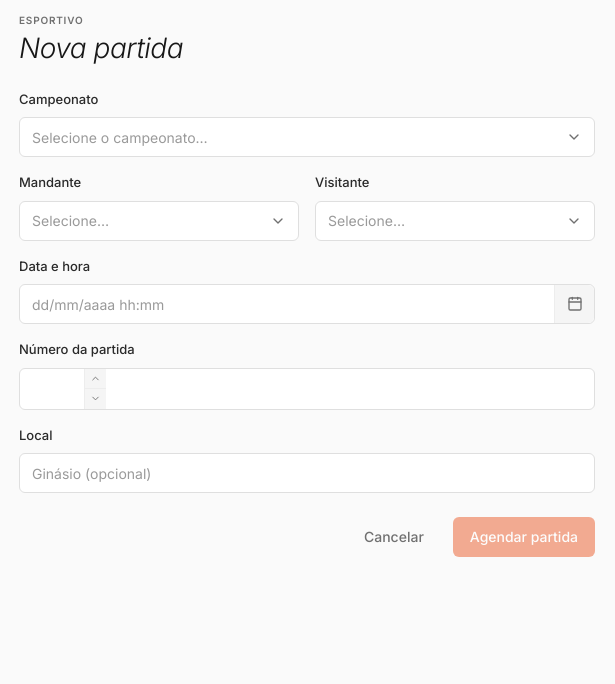
Scenario: MatchFormPage create › shows the group field for a group-stage tournament
Click the button labelled "Selecione o campeonato…": [120, 137] box [19,117,595,157]
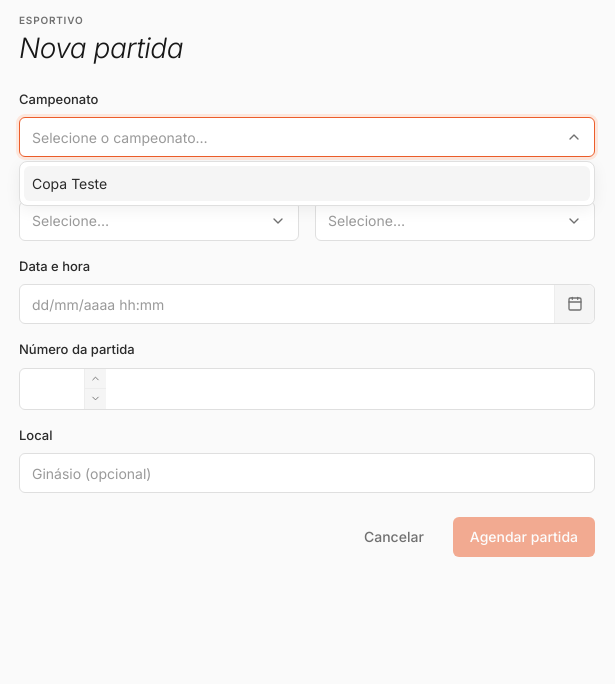
Click the option "Copa Teste": [70, 184] box [24,166,590,201]
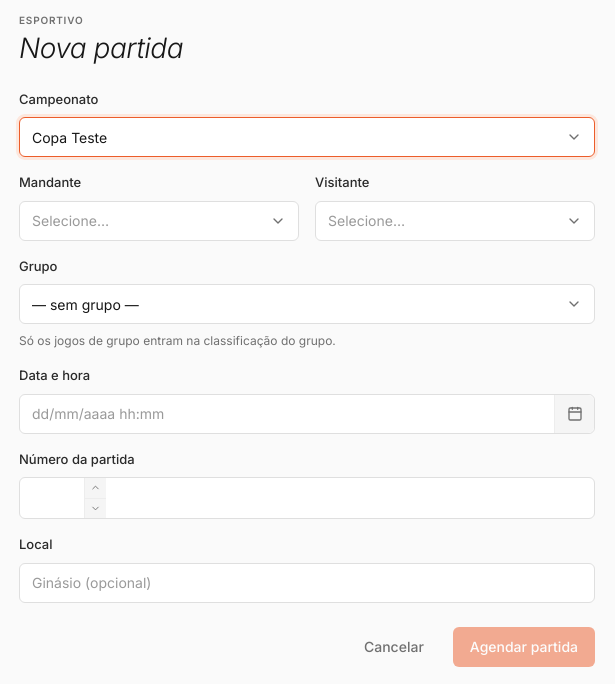
Now the button labelled "— sem grupo —" is shown, box [19,284,595,324]
